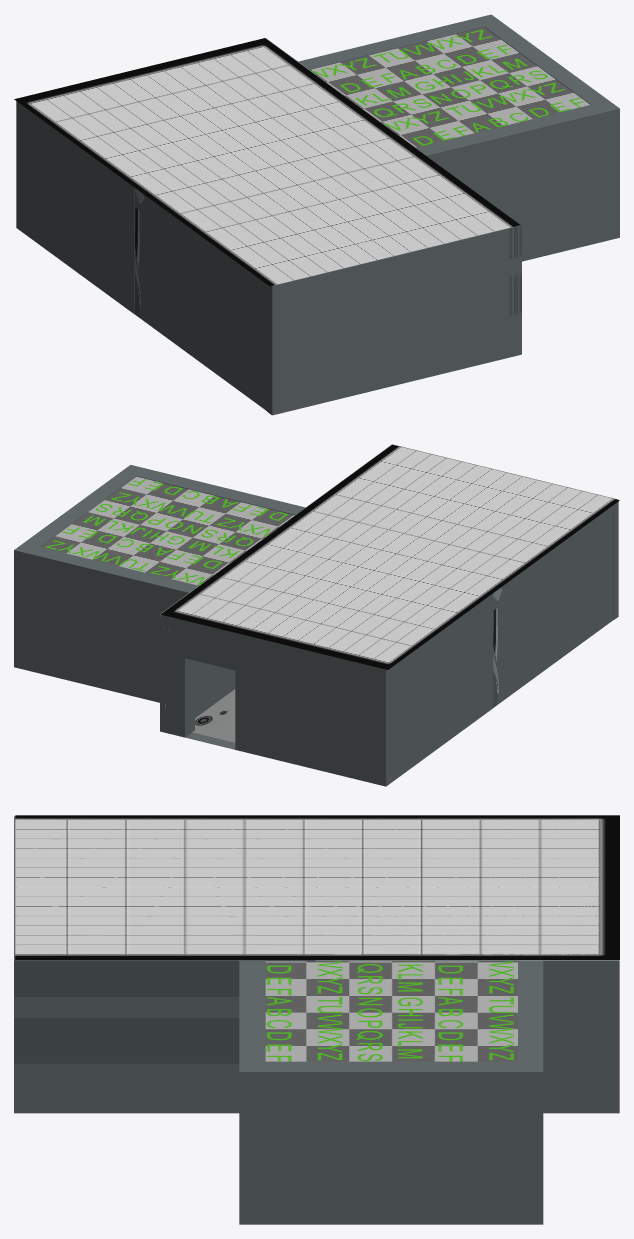
The model's file is Room2Export.fbx.
3 renders of one model, top to bottom at view 1: azimuth 30°, elevation 25°; view 2: azimuth 150°, elevation 25°; view 3: azimuth 270°, elevation 25°, orthographic. The views are drawn at different scales.
Parts seen in each view (by area): view 1: pCube2, pPlane1, pPlane5; view 2: pCube2, pPlane1, pPlane5, pPlane3; view 3: pCube2, pPlane1, pPlane5.
Part boxes in pixels (x1=…): pCube2: x1=16, y1=14, x2=619, y2=415; pPlane1: x1=14, y1=38, x2=520, y2=286; pPlane5: x1=310, y1=27, x2=589, y2=147; pCube2: x1=14, y1=444, x2=618, y2=786; pPlane1: x1=160, y1=445, x2=619, y2=669; pPlane5: x1=41, y1=476, x2=294, y2=585; pPlane3: x1=192, y1=689, x2=235, y2=742; pCube2: x1=14, y1=816, x2=619, y2=1224; pPlane1: x1=15, y1=815, x2=619, y2=959; pPlane5: x1=265, y1=961, x2=517, y2=1061.
Bounding box in the file's own units: 1478 × 410 × 1474.
5 materials, 5 textured.
